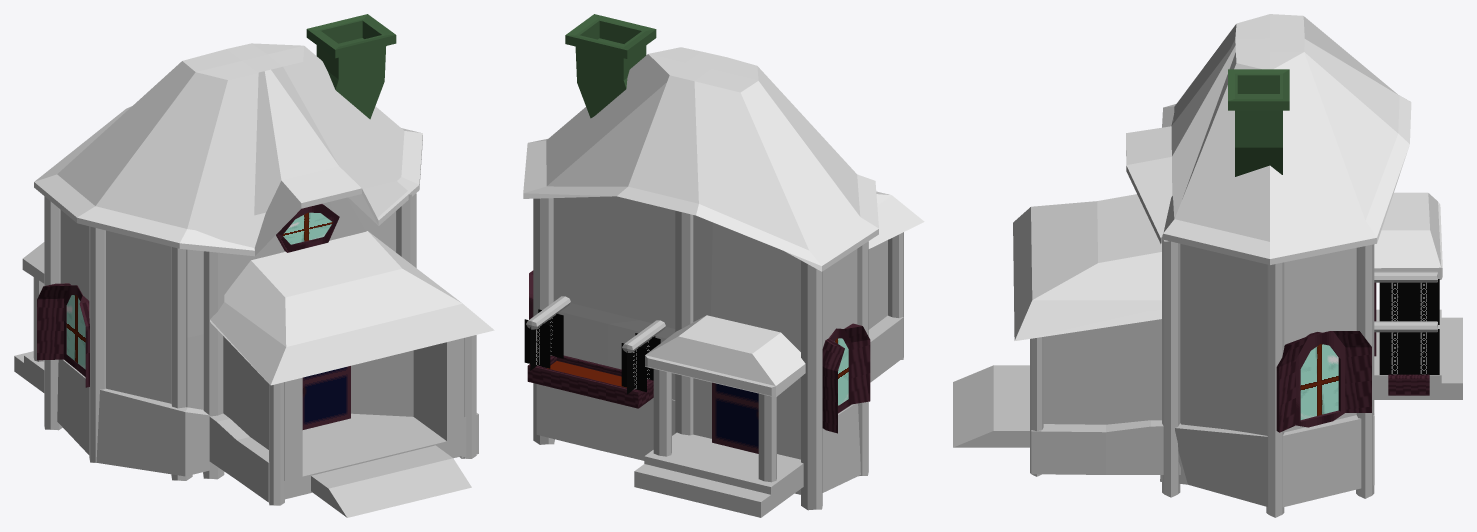
The model's file is house2.fbx.
The picture shows the model from 3 angles, left to right: view 1: azimuth 30°, elevation 25°; view 2: azimuth 150°, elevation 25°; view 3: azimuth 270°, elevation 25°; orthographic projection. The views are drawn at different scales.
Visible parts, largest first — view 1: Cube.001, Cube.010, Cube.013, Cube.007, Cube.002, Cube.009, Cube.011, Cube.012, Cube.022, Cube.017, Cube.026, Cube.028 (+10 smaller); view 2: Cube.001, Cube.008, Cube.002, Cube.016, Cube.005, Cube.006, Cube.028, Cube.032, Cube.024, Cube.004, Cube.015, Cube.026 (+12 smaller); view 3: Cube.001, Cube.010, Cube.011, Cube.025, Cube.013, Cube.029, Cube.002, Cube.008, Cube.020, Cube.019, Cube.015, Plane (+10 smaller).
Part boxes in pixels (x1,y1,x2,y2): Cube.001: (34,43,422,476); Cube.010: (210,231,494,385); Cube.013: (311,445,471,517); Cube.007: (284,413,461,499); Cube.002: (306,14,396,119); Cube.009: (223,336,302,483); Cube.011: (413,338,464,441); Cube.012: (351,350,413,416); Cube.022: (203,251,224,479); Cube.017: (89,226,105,462); Cube.026: (209,413,269,502); Cube.028: (37,283,89,387); Cube.001: (523,47,878,494); Cube.008: (645,315,805,397); Cube.002: (565,14,656,118); Cube.016: (801,260,822,510); Cube.005: (644,432,803,502); Cube.006: (634,464,803,517); Cube.028: (822,323,870,433); Cube.032: (527,355,653,408); Cube.024: (675,210,693,435); Cube.004: (712,382,758,453); Cube.015: (533,198,554,444); Cube.026: (868,315,903,382); Cube.001: (1126,14,1411,507); Cube.010: (1013,194,1161,340); Cube.011: (1043,319,1161,424); Cube.025: (1031,420,1180,474); Cube.013: (953,365,1029,447); Cube.029: (1276,331,1371,432); Cube.002: (1228,69,1289,176); Cube.008: (1374,192,1442,279); Cube.020: (1162,236,1180,497); Cube.019: (1266,262,1284,517); Cube.015: (1356,244,1374,498); Plane: (1300,344,1338,419).
Size of the model in its own units: 1371 by 1405 by 1623.
